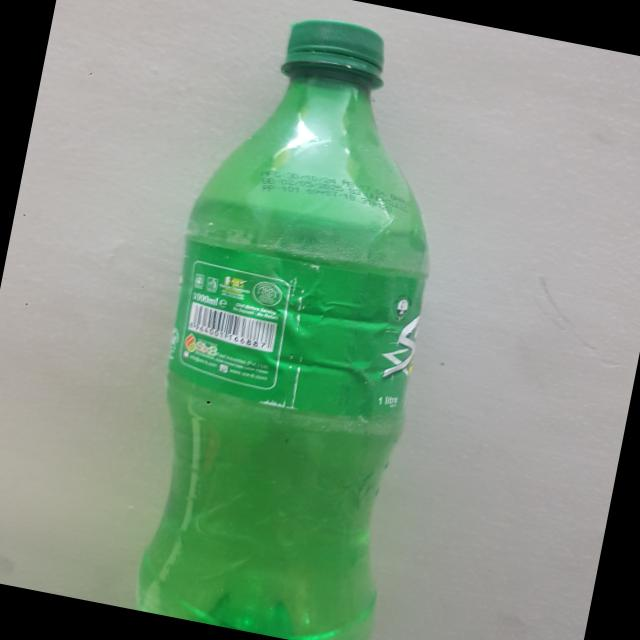general: (111, 0, 486, 640)
